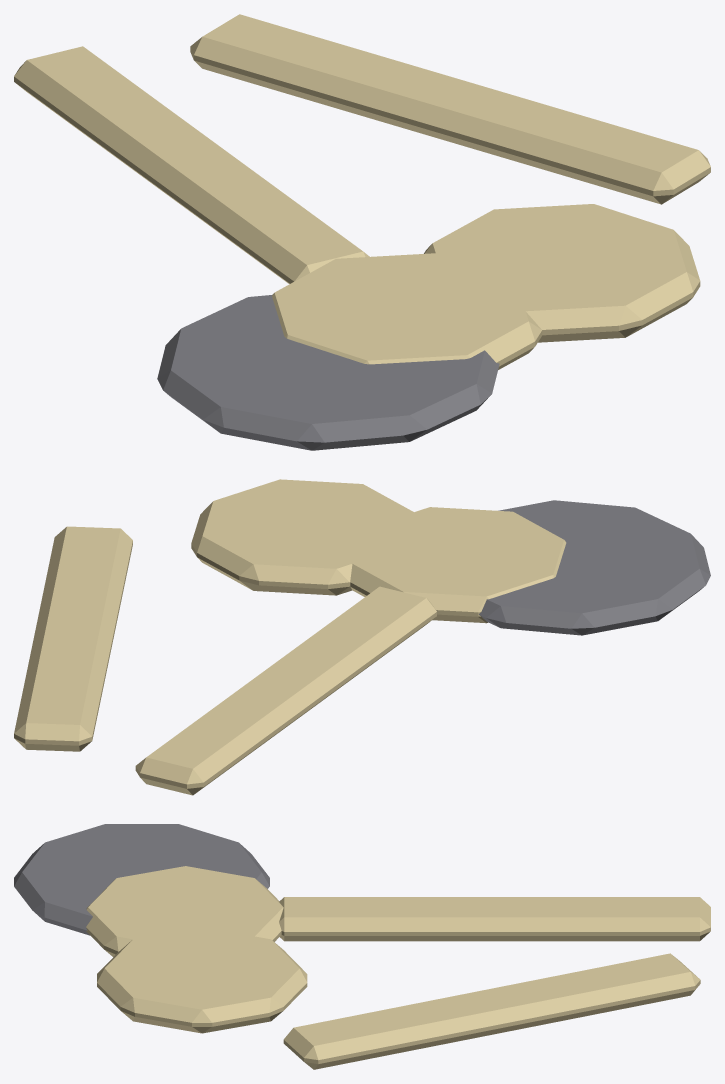
Rendered from SM_Keys.fbx.
The picture shows the model from 3 angles, top to bottom: view 1: azimuth 30°, elevation 25°; view 2: azimuth 150°, elevation 25°; view 3: azimuth 270°, elevation 25°; orthographic projection. The views are drawn at different scales.
Parts seen in each view (by area): view 1: Keys; view 2: Keys; view 3: Keys.
Boxes of the visible parts, bbox=[...] form: Keys: bbox=[14, 14, 710, 450]; Keys: bbox=[14, 479, 710, 795]; Keys: bbox=[14, 824, 710, 1069].
Size of the model in its own units: 12.59 by 0.6 by 15.92.
